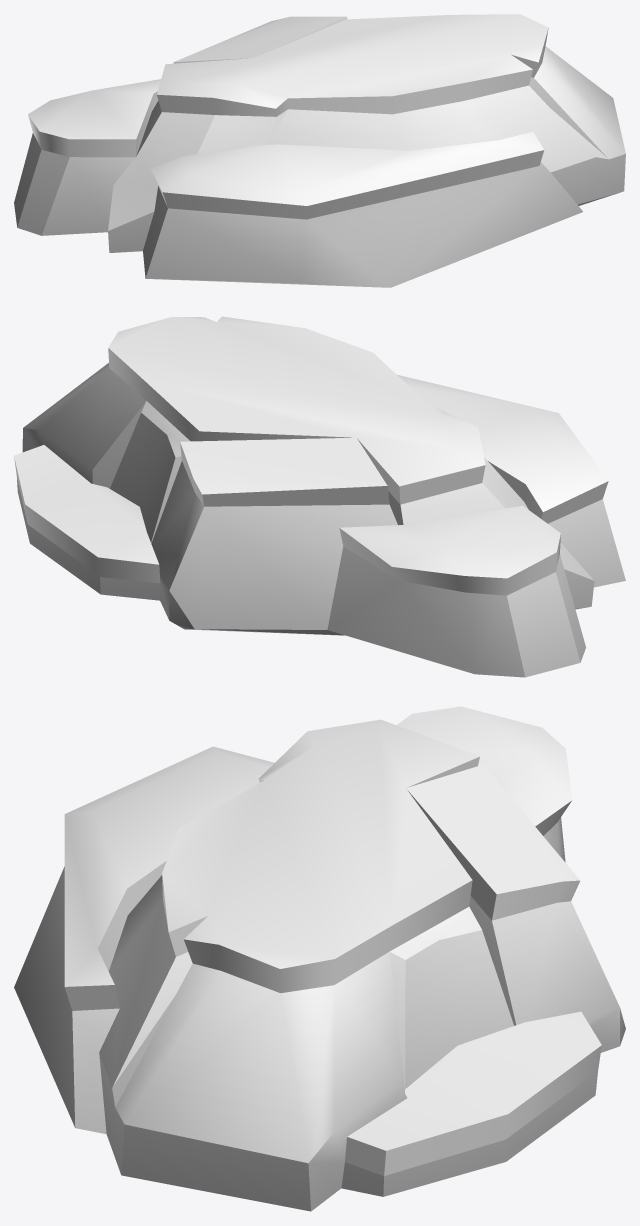
File: Rock_4.fbx
3 renders of one model, top to bottom at view 1: azimuth 30°, elevation 25°; view 2: azimuth 150°, elevation 25°; view 3: azimuth 270°, elevation 25°, orthographic. The views are drawn at different scales.
Parts seen in each view (by area): view 1: Rock_4, Rock_4_Snow; view 2: Rock_4_Snow, Rock_4; view 3: Rock_4_Snow, Rock_4.
Part boxes in pixels (x1=…): Rock_4: x1=14, y1=46, x2=625, y2=287; Rock_4_Snow: x1=28, y1=14, x2=548, y2=219; Rock_4_Snow: x1=14, y1=316, x2=608, y2=595; Rock_4: x1=16, y1=363, x2=625, y2=677; Rock_4_Snow: x1=64, y1=706, x2=601, y2=1175; Rock_4: x1=14, y1=817, x2=625, y2=1211.
Bounding box in the file's own units: 7.49 × 1.87 × 4.96.
